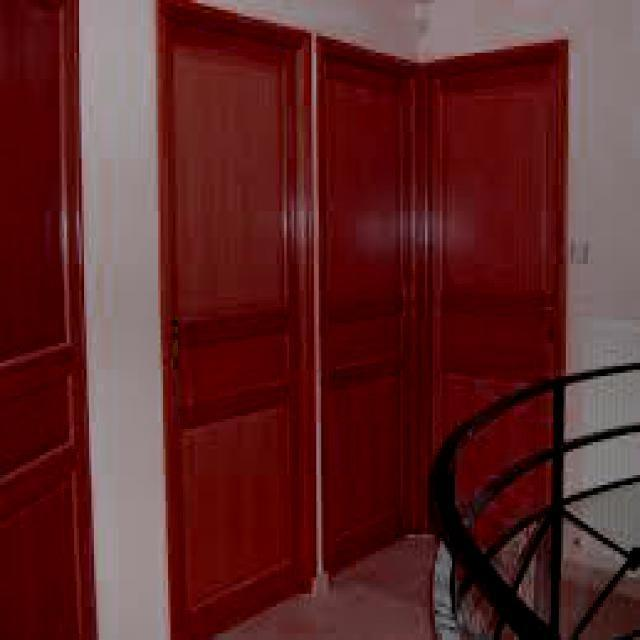door: (150, 1, 306, 637), (314, 24, 418, 573)
